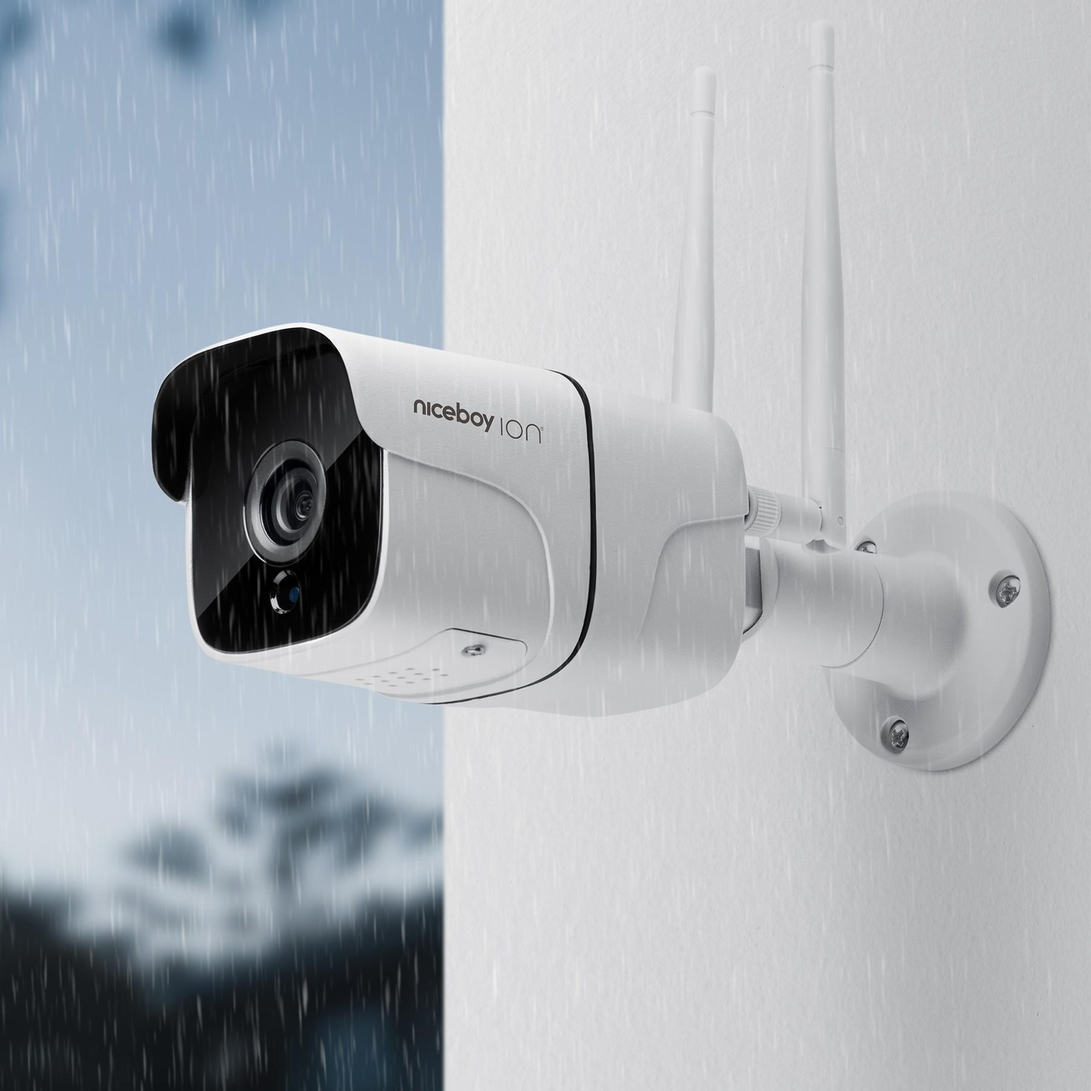camera: (118, 185, 800, 827)
